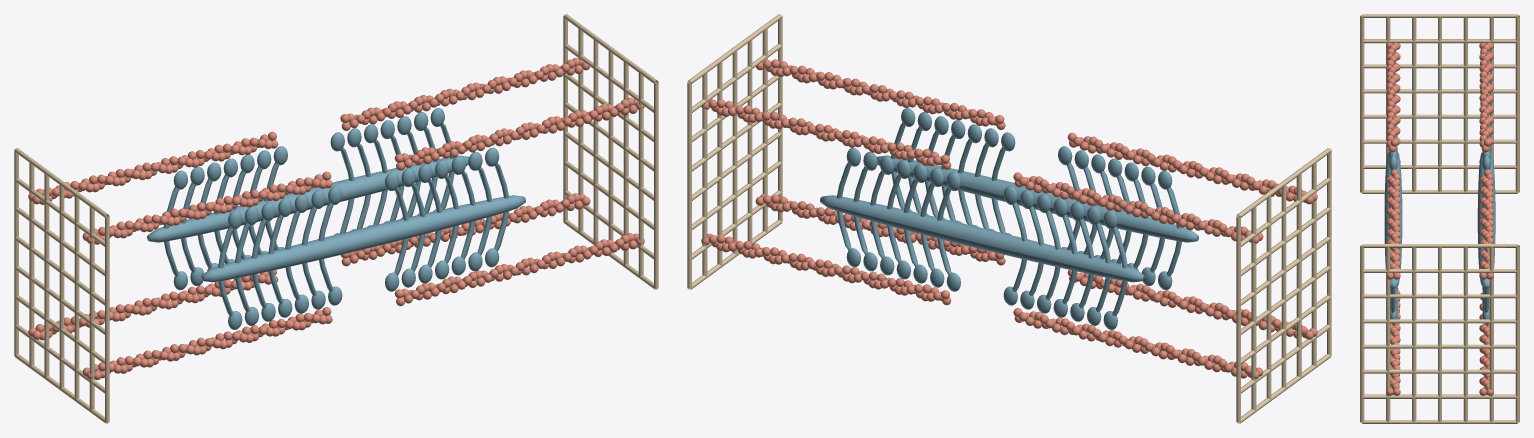
Rendered from sarcomere.glb.
The picture shows the model from 3 angles, left to right: view 1: azimuth 30°, elevation 25°; view 2: azimuth 150°, elevation 25°; view 3: azimuth 270°, elevation 25°; orthographic projection. The views are drawn at different scales.
Parts seen in each view (by area): view 1: Actine_globulaire, Reseau_Z, Bras_myosine, Myosine; view 2: Actine_globulaire, Reseau_Z, Bras_myosine, Myosine; view 3: Reseau_Z, Actine_globulaire, Myosine, Bras_myosine.
Boxes of the visible parts, box(x1,y1,x2,y2) form: Actine_globulaire: box(28, 57, 644, 380); Reseau_Z: box(14, 14, 658, 423); Bras_myosine: box(163, 108, 509, 329); Myosine: box(147, 155, 525, 282); Actine_globulaire: box(701, 59, 1317, 379); Reseau_Z: box(687, 14, 1331, 423); Bras_myosine: box(836, 108, 1181, 329); Myosine: box(820, 155, 1198, 282); Reseau_Z: box(1360, 14, 1519, 423); Actine_globulaire: box(1386, 42, 1493, 395); Myosine: box(1384, 152, 1495, 288); Bras_myosine: box(1389, 124, 1490, 324).
Size of the model in its own units: 5.68 by 2.04 by 1.64.
